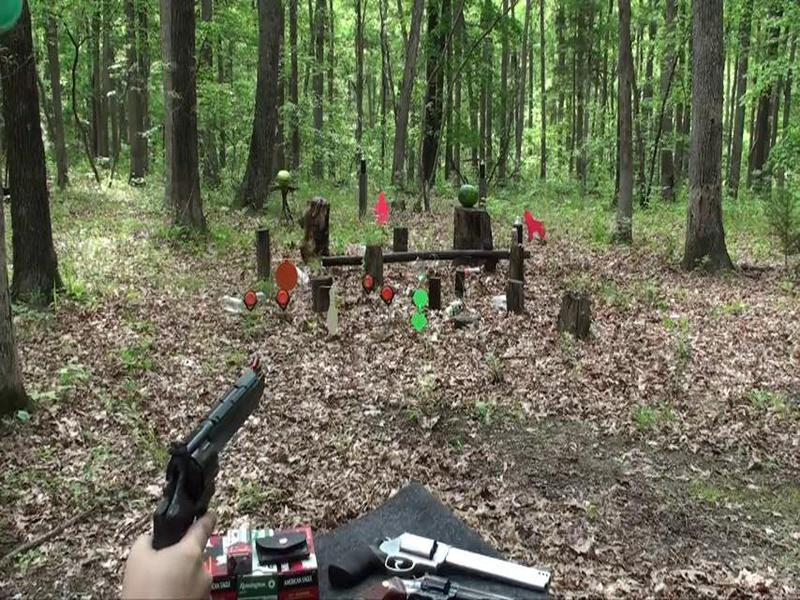Revolver: (121, 353, 281, 565)
